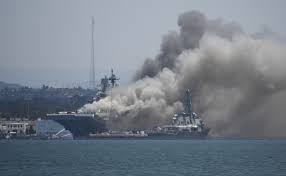tau_muctieu: (50, 86, 158, 135), (149, 98, 215, 144)
